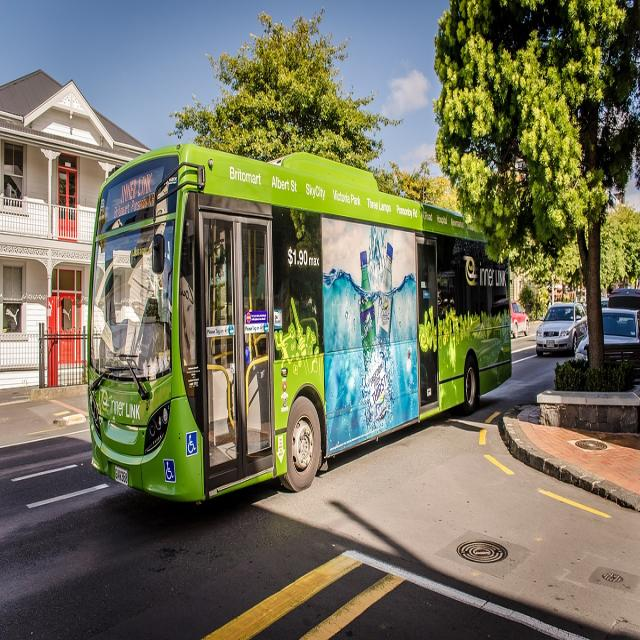Bus: (88, 142, 512, 502)
Car: (537, 304, 588, 355)
Tree: (436, 0, 640, 366)
